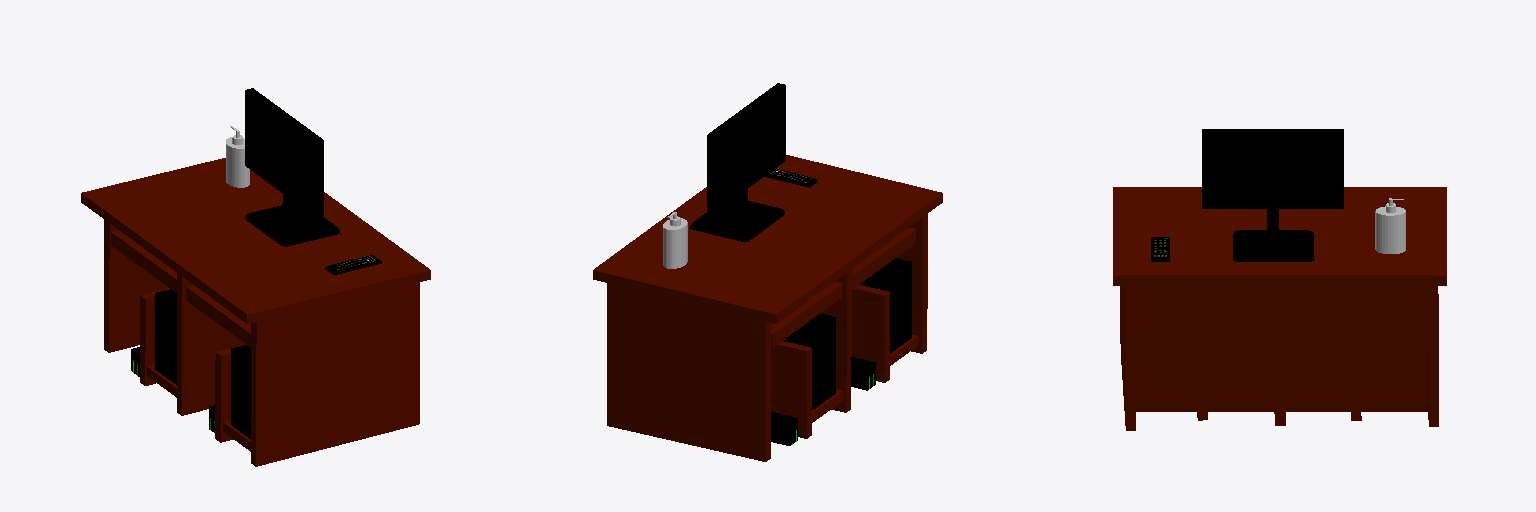
File: meja.obj
3 renders of one model, left to right at view 1: azimuth 30°, elevation 25°; view 2: azimuth 150°, elevation 25°; view 3: azimuth 270°, elevation 25°, orthographic.
Parts seen in each view (by area): view 1: Cube_Cube.001, Cube.002_Cube.003, Cube.019_Cube.015, Cube.004_Cube.005, Cube.003_Cube.004, Cube.005_Cube.006, Cube.018_Cube.014, Cube.011_Cube, Cube.012_Cube.010, Cube.006_Cube.007, Cube.008_Cube.009, Cylinder.005_Cylinder.006; view 2: Cube_Cube.001, Cube.003_Cube.004, Cube.019_Cube.015, Cube.008_Cube.009, Cube.006_Cube.007, Cube.005_Cube.006, Cube.011_Cube, Cube.012_Cube.010, Cube.018_Cube.014, Cube.002_Cube.003, Cube.004_Cube.005, Cylinder.005_Cylinder.006 (+2 smaller); view 3: Cube.001_Cube.002, Cube_Cube.001, Cube.019_Cube.015, Cube.018_Cube.014, Cube.002_Cube.003, Cube.003_Cube.004, Cylinder.005_Cylinder.006, Cylinder.
Boxes of the visible parts, x1,y1,x2,y2 form: Cube_Cube.001: [81, 158, 430, 323]; Cube.002_Cube.003: [251, 282, 419, 466]; Cube.019_Cube.015: [245, 88, 323, 217]; Cube.004_Cube.005: [177, 273, 244, 415]; Cube.003_Cube.004: [104, 220, 167, 352]; Cube.005_Cube.006: [111, 230, 250, 347]; Cube.018_Cube.014: [245, 205, 339, 246]; Cube.011_Cube: [155, 289, 176, 384]; Cube.012_Cube.010: [231, 345, 250, 438]; Cube.006_Cube.007: [215, 344, 245, 442]; Cube.008_Cube.009: [140, 288, 169, 385]; Cylinder.005_Cylinder.006: [226, 137, 249, 187]; Cube_Cube.001: [593, 155, 942, 323]; Cube.003_Cube.004: [607, 283, 770, 461]; Cube.019_Cube.015: [707, 83, 785, 212]; Cube.008_Cube.009: [771, 341, 811, 438]; Cube.006_Cube.007: [851, 285, 889, 382]; Cube.005_Cube.006: [771, 228, 915, 347]; Cube.011_Cube: [783, 313, 835, 409]; Cube.012_Cube.010: [860, 258, 911, 353]; Cube.018_Cube.014: [690, 200, 784, 241]; Cube.002_Cube.003: [897, 214, 927, 353]; Cube.004_Cube.005: [821, 269, 851, 412]; Cylinder.005_Cylinder.006: [663, 218, 687, 268]; Cube.001_Cube.002: [1135, 286, 1428, 411]; Cube_Cube.001: [1113, 187, 1446, 285]; Cube.019_Cube.015: [1202, 129, 1343, 208]; Cube.018_Cube.014: [1233, 230, 1313, 261]; Cube.002_Cube.003: [1120, 286, 1135, 430]; Cube.003_Cube.004: [1428, 286, 1438, 426]; Cylinder.005_Cylinder.006: [1375, 206, 1405, 253]; Cylinder: [1267, 191, 1278, 244].
Bounding box in the file's own units: 4.15 × 5.93 × 6.52.